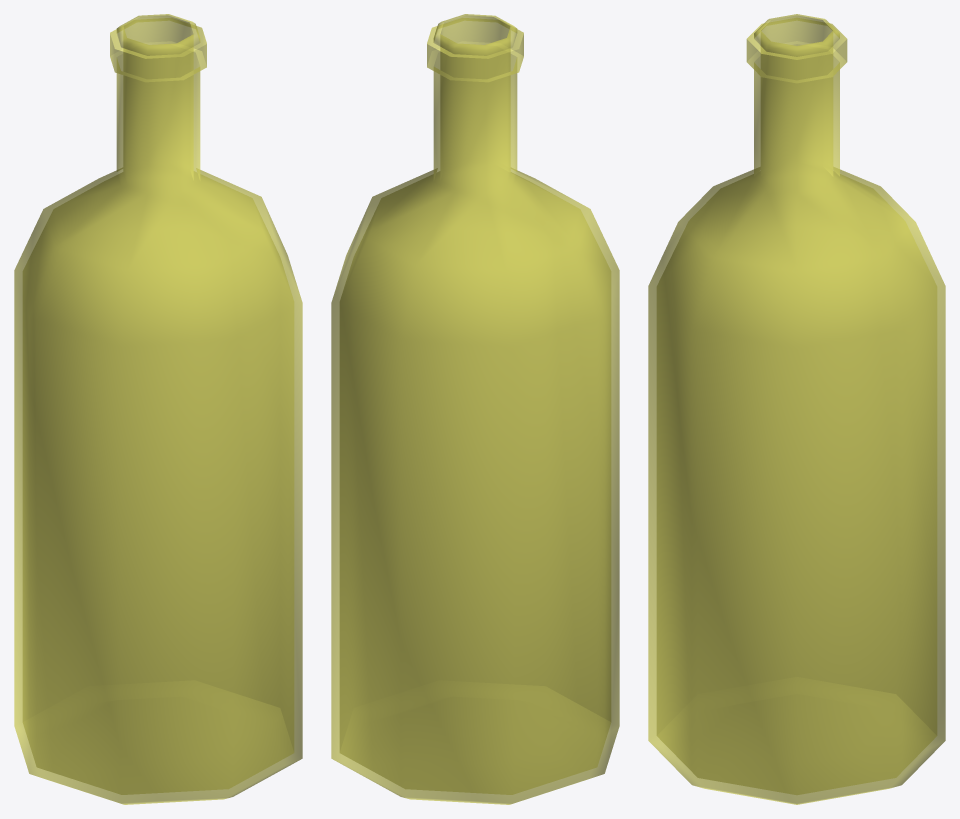
The model's file is PROP_013_Bottles_I.fbx.
3 views of the same model, side by side, from view 1: azimuth 30°, elevation 25°; view 2: azimuth 150°, elevation 25°; view 3: azimuth 270°, elevation 25° (orthographic).
Parts seen in each view (by area): view 1: Cuadrado_001; view 2: Cuadrado_001; view 3: Cuadrado_001.
Boxes of the visible parts, x1,y1,x2,y2 form: Cuadrado_001: [14, 14, 302, 804]; Cuadrado_001: [331, 14, 619, 804]; Cuadrado_001: [648, 14, 945, 804].
Bounding box in the file's own units: 0.1949 × 0.5196 × 0.1949.
